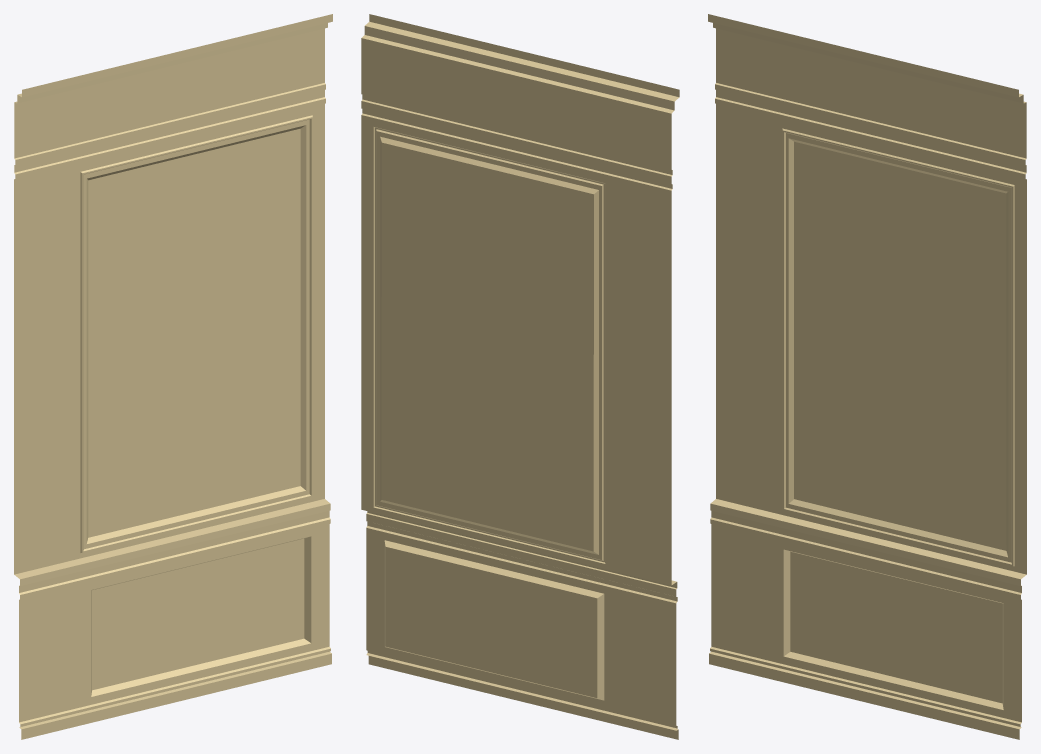
Rendered from WoodWallPanel.fbx.
3 renders of one model, left to right at view 1: azimuth 30°, elevation 25°; view 2: azimuth 150°, elevation 25°; view 3: azimuth 330°, elevation 25°, orthographic.
Parts seen in each view (by area): view 1: WallCorridor_low; view 2: WallCorridor_low; view 3: WallCorridor_low.
Part boxes in pixels (x1=…): WallCorridor_low: x1=14, y1=14, x2=332, y2=739; WallCorridor_low: x1=361, y1=14, x2=679, y2=739; WallCorridor_low: x1=708, y1=14, x2=1026, y2=739.
Size of the model in its own units: 1.75 by 0.0973 by 3.51.
